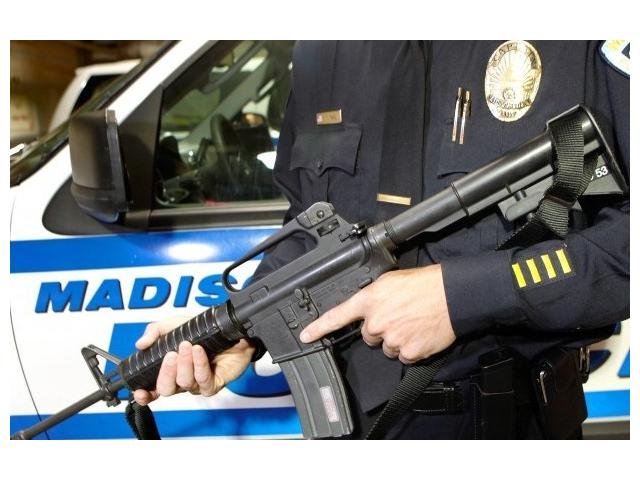rifle: (13, 107, 625, 439)
